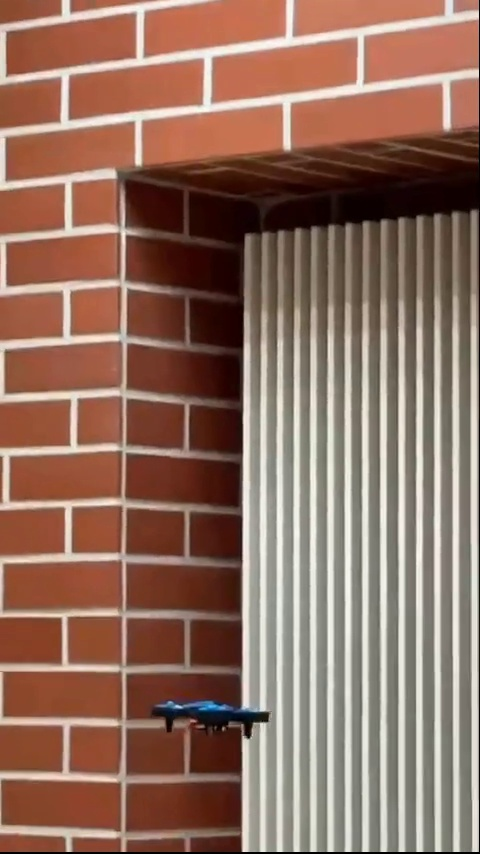drone: (140, 691, 276, 740)
